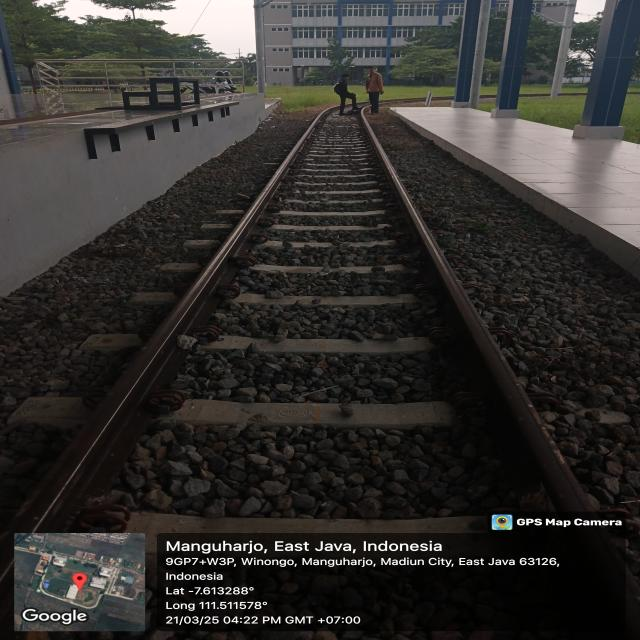rail-detection: (5, 119, 317, 535), (362, 115, 592, 511)
